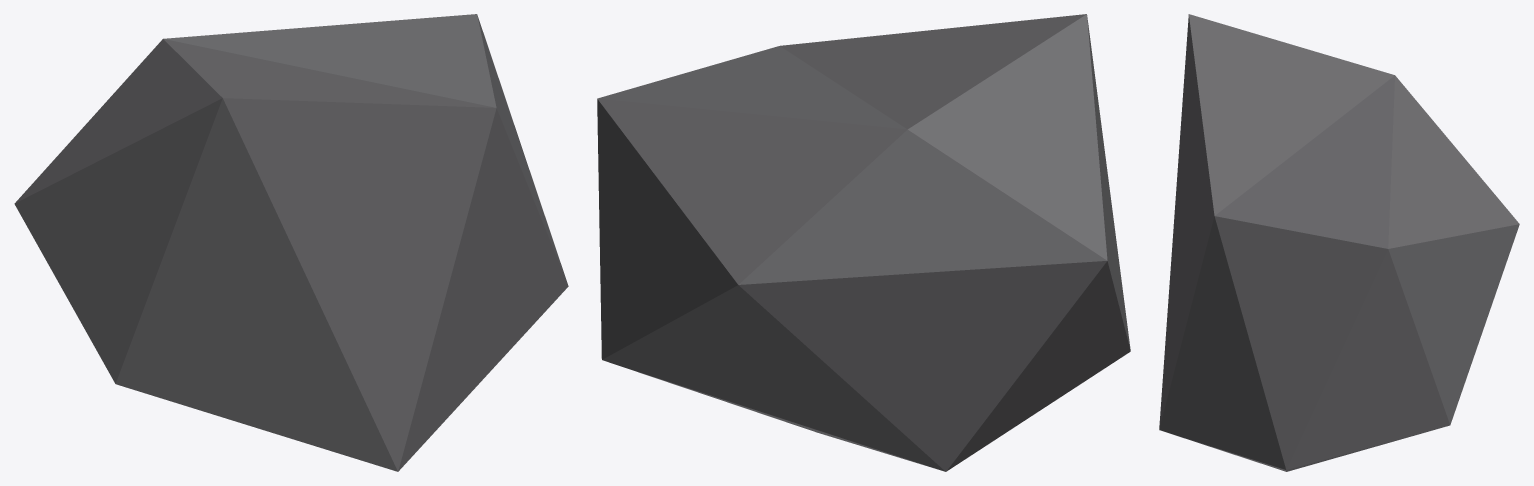
Rendered from Roca B.fbx.
3 views of the same model, side by side, from view 1: azimuth 30°, elevation 25°; view 2: azimuth 150°, elevation 25°; view 3: azimuth 270°, elevation 25° (orthographic). The views are drawn at different scales.
Parts seen in each view (by area): view 1: polySurface498; view 2: polySurface498; view 3: polySurface498.
Part boxes in pixels (x1=…): polySurface498: x1=14, y1=14, x2=568, y2=471; polySurface498: x1=597, y1=14, x2=1130, y2=471; polySurface498: x1=1159, y1=14, x2=1519, y2=471.
Bounding box in the file's own units: 1.56 × 1.22 × 1.08.
